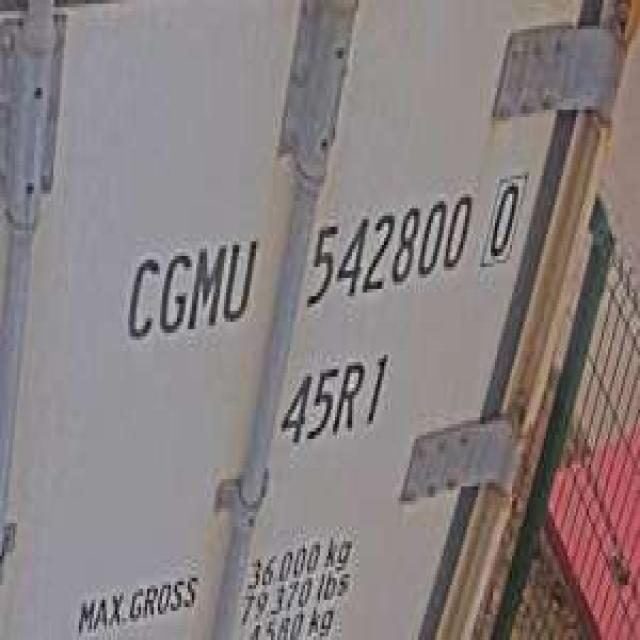dv: (484, 161, 527, 271)
owner: (118, 219, 262, 344)
serial: (301, 183, 476, 311)
size: (273, 340, 395, 454)
